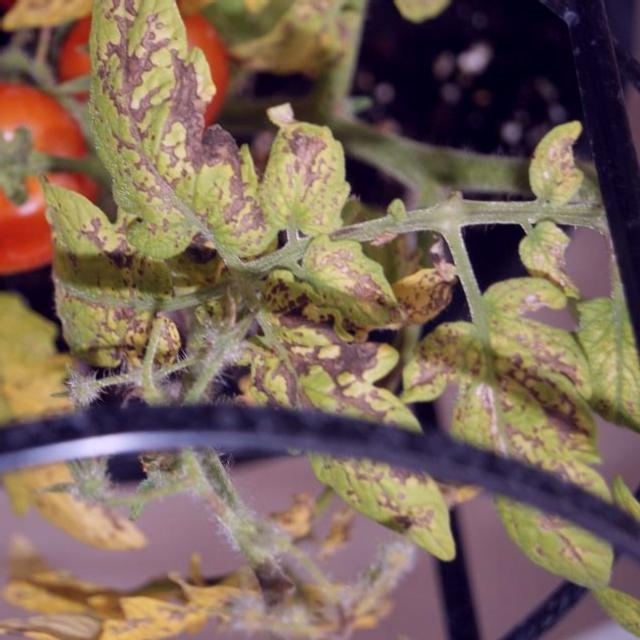Tomato leaf bacterial spot: (411, 256, 617, 590), (252, 308, 476, 576), (80, 3, 283, 283), (43, 182, 172, 376), (263, 103, 354, 244)
